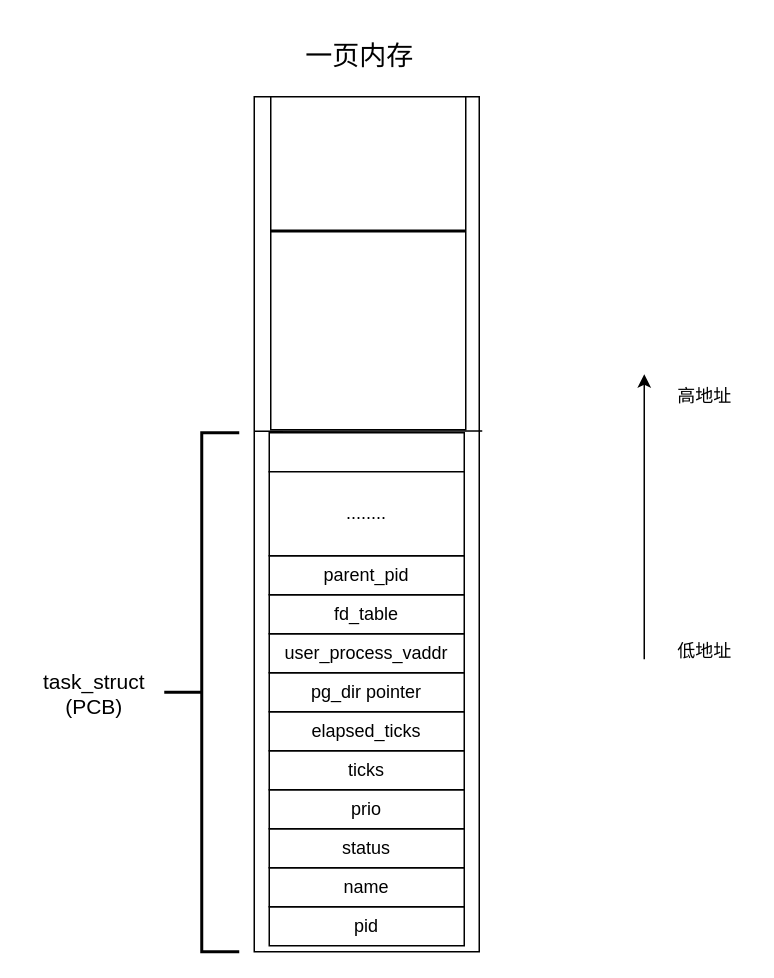
Image size: 774x978. Some labels were removed from this diagram. The shapes that lost their labels are listed below. From the top down, each one's centre as x and y in pixels, then its label:
At point 367,162: "intr stack".
At point 367,330: "thread stack".
At point 366,451: "stack_magic".
